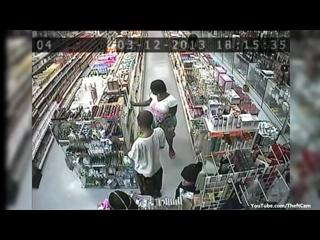Normal: (128, 110, 166, 198), (149, 80, 178, 160)
